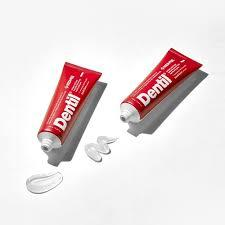toothpaste: (109, 37, 206, 136), (39, 52, 97, 156)
